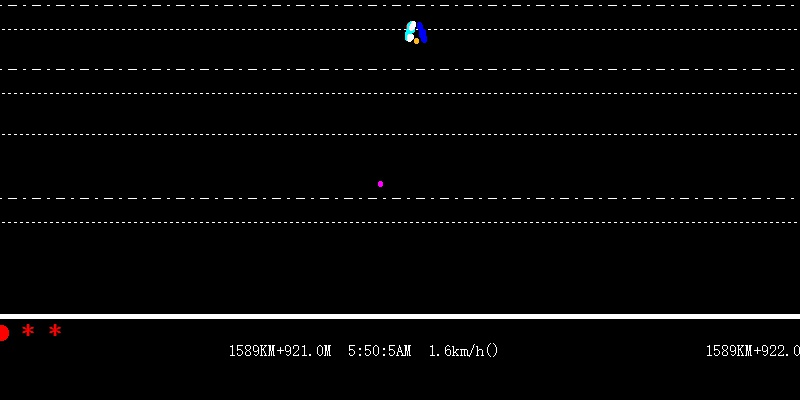face_2: (404, 20, 429, 46)
star: (18, 319, 39, 340), (46, 321, 64, 341)
